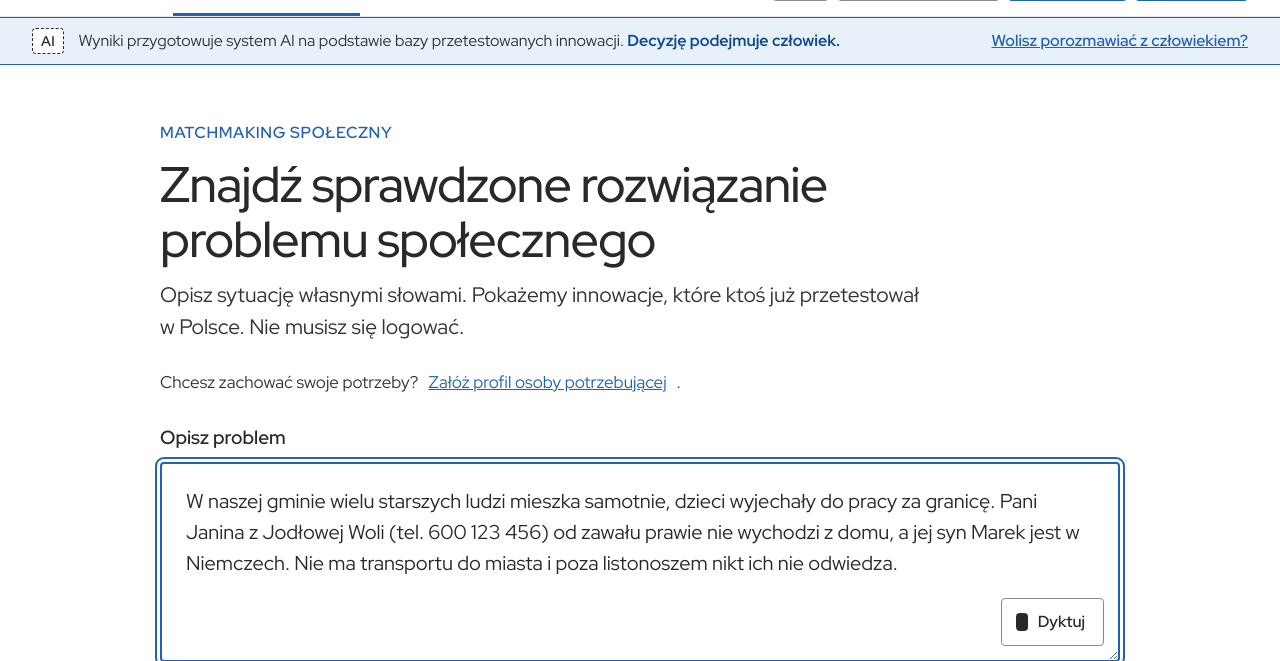
Test: M1 describe problem › rejects a short description and keeps the text
Replace the text in the text box labelled "Opisz problem" with "Starsi ludzie są samotni." at (640, 562), box [160, 462, 1120, 660]
(page scrolled)
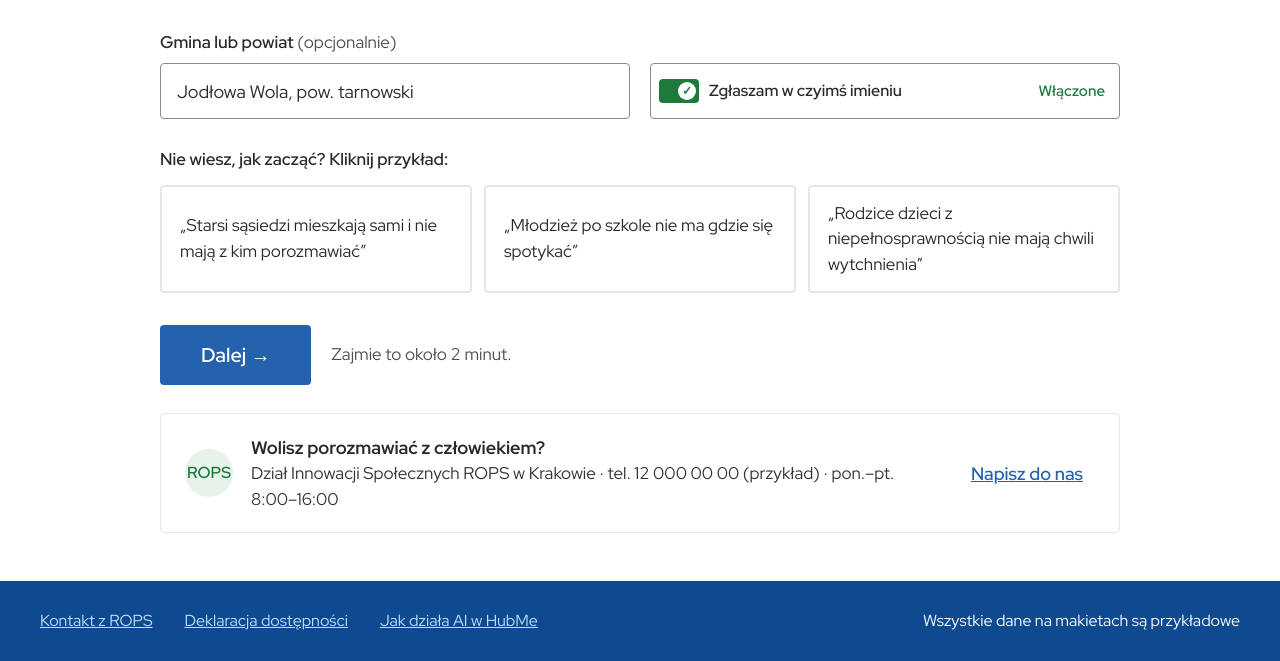
Click the button "Dalej →".
click(236, 355)  # box [160, 325, 311, 385]
(page scrolled)
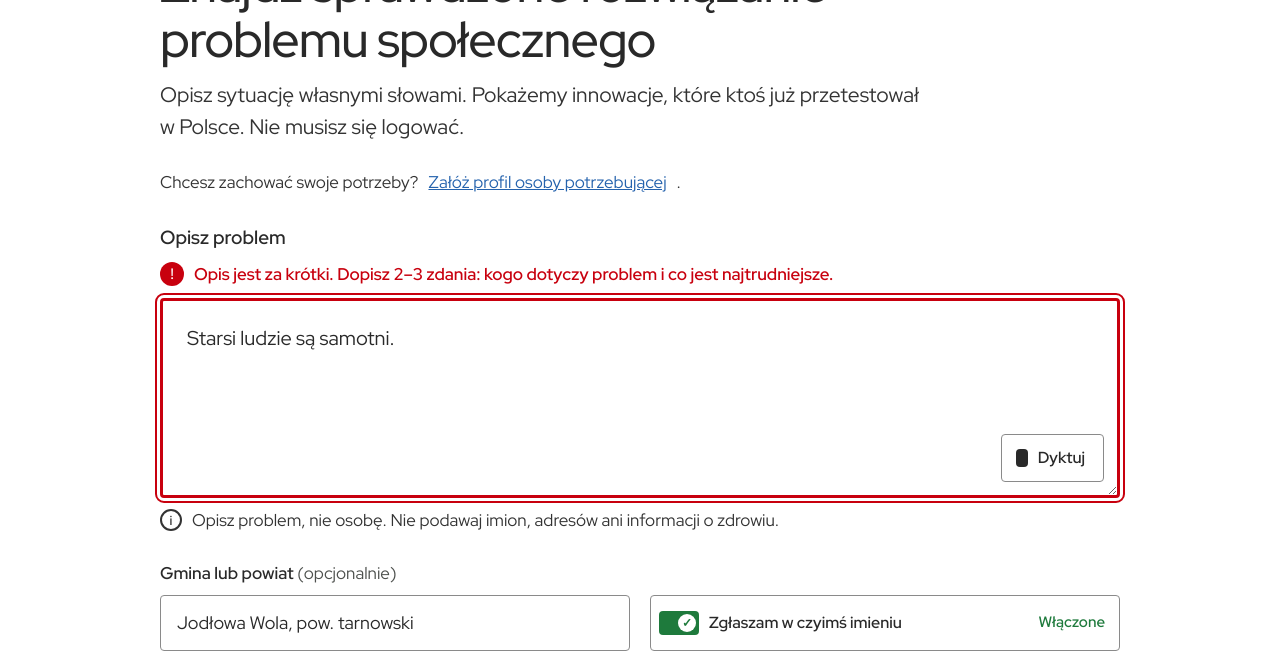
Expected: the message shows "Opis jest za krótki. Dopisz 2–3 zdania: kogo dotyczy problem i co jest najtrudniejsze.", [194, 263, 833, 285]
